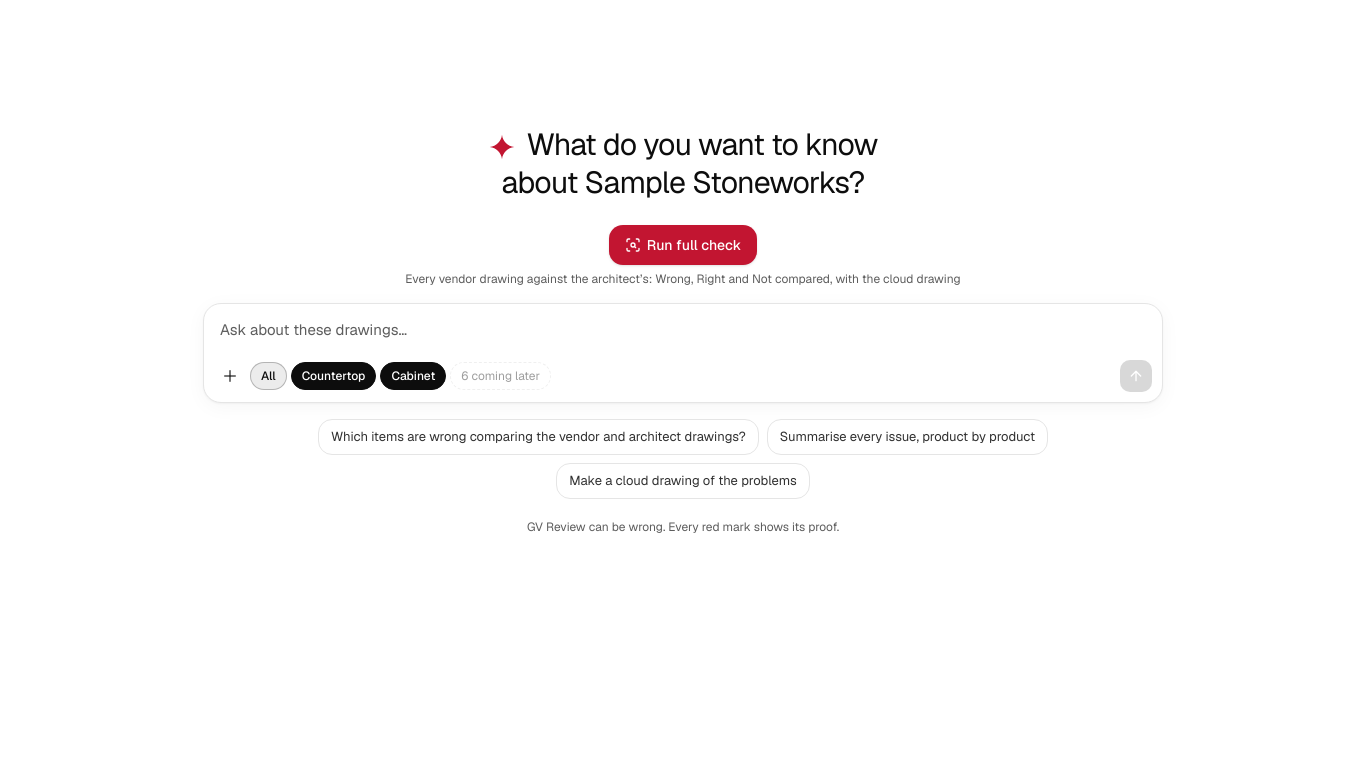
Test: the page around it › a new chat’s title fades in once its first message names it
This screenshot has width=1366, height=768.
Expected: the button named "Send message" is shown, [1120, 360, 1152, 392]
In the text box named "Your message": (683, 330) [204, 304, 1162, 356], type "Which items are wrong"
Then press Enter
(page scrolled)
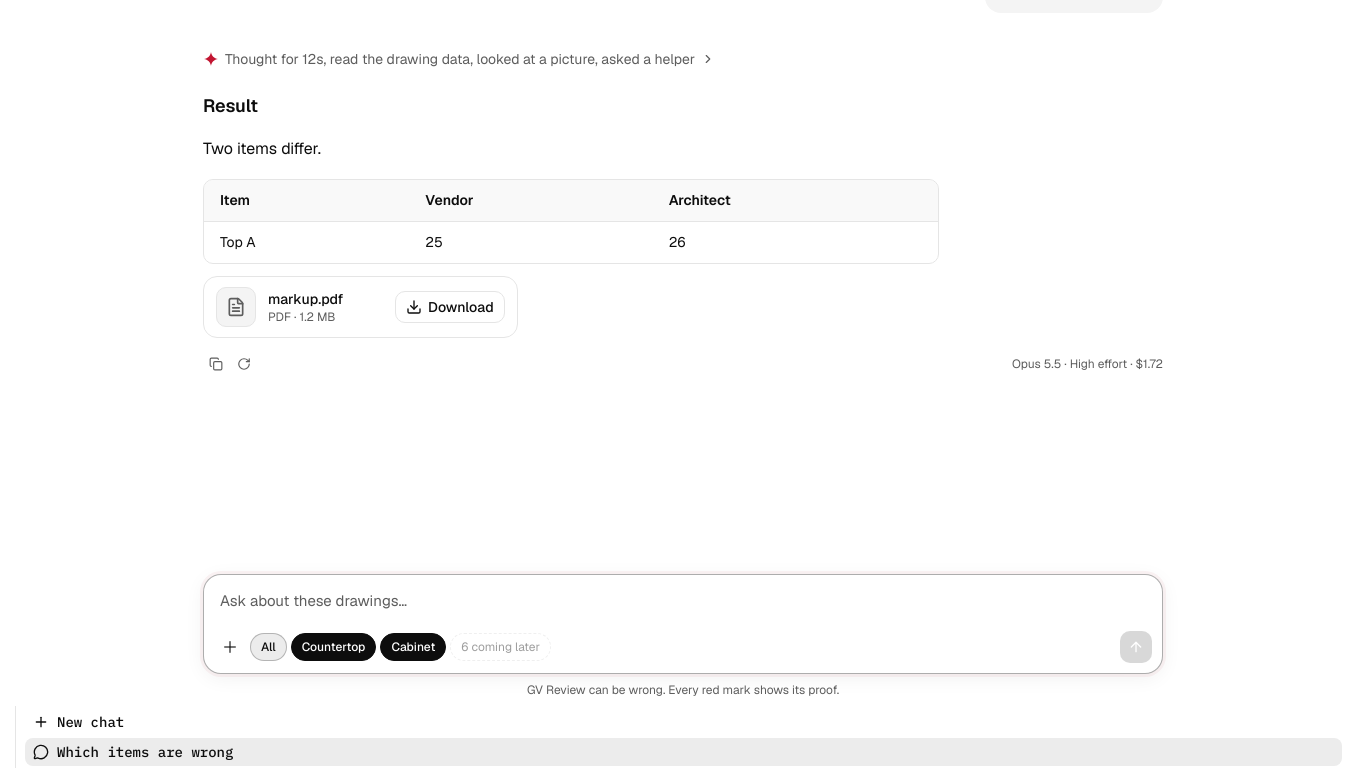
Expected: the 2nd text "Which items are wrong" is shown, [57, 743, 233, 761]
